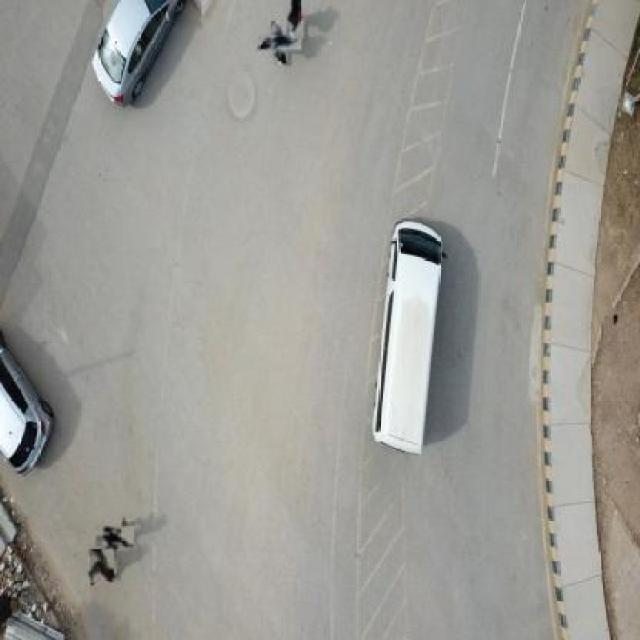Person: (88, 549, 115, 586), (100, 522, 131, 552), (264, 28, 294, 58), (288, 0, 304, 40)
